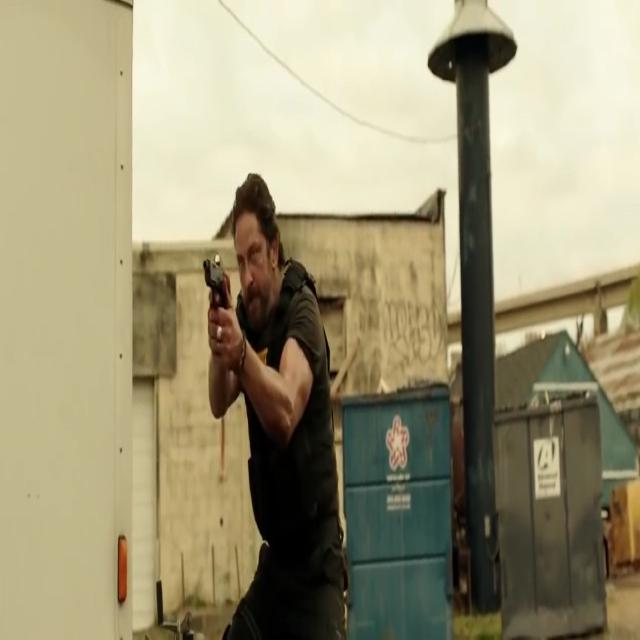Weapon: (192, 248, 245, 350)
